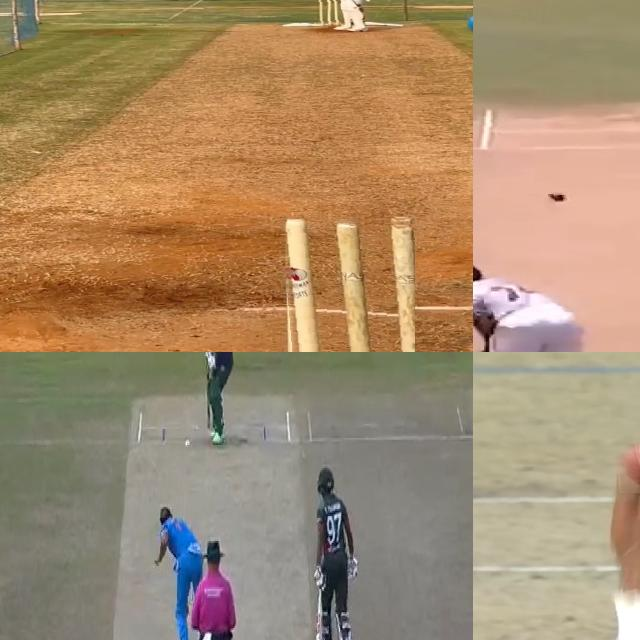Cricket ball: (615, 435, 640, 492), (546, 190, 568, 202), (185, 439, 191, 450)
Stumps: (281, 213, 414, 352), (316, 0, 341, 29)
